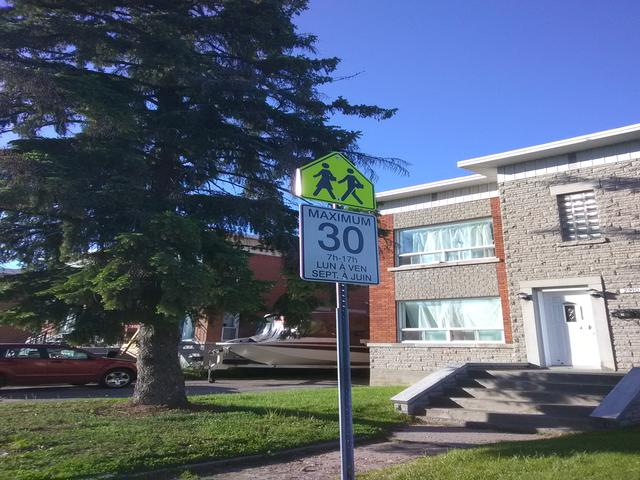vitesse: (298, 203, 384, 289)
